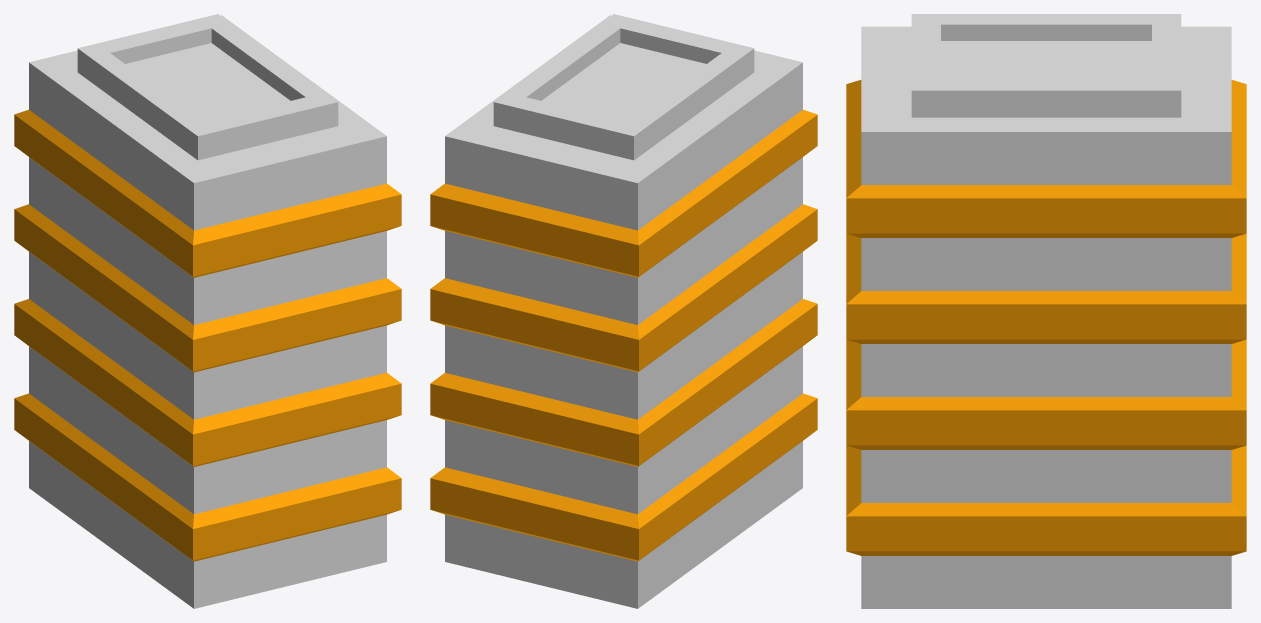
The model's file is building_strips_orange.glb.
3 views of the same model, side by side, from view 1: azimuth 30°, elevation 25°; view 2: azimuth 150°, elevation 25°; view 3: azimuth 270°, elevation 25° (orthographic). The views are drawn at different scales.
Visible parts, largest first — view 1: building_strips; view 2: building_strips; view 3: building_strips.
Part boxes in pixels (bbox=[...]): building_strips: bbox=[14, 14, 401, 608]; building_strips: bbox=[430, 14, 817, 608]; building_strips: bbox=[846, 14, 1246, 608].
Bounding box in the file's own units: 7.22 × 14.87 × 10.71.
Materials: 1 (1 with a texture image).
